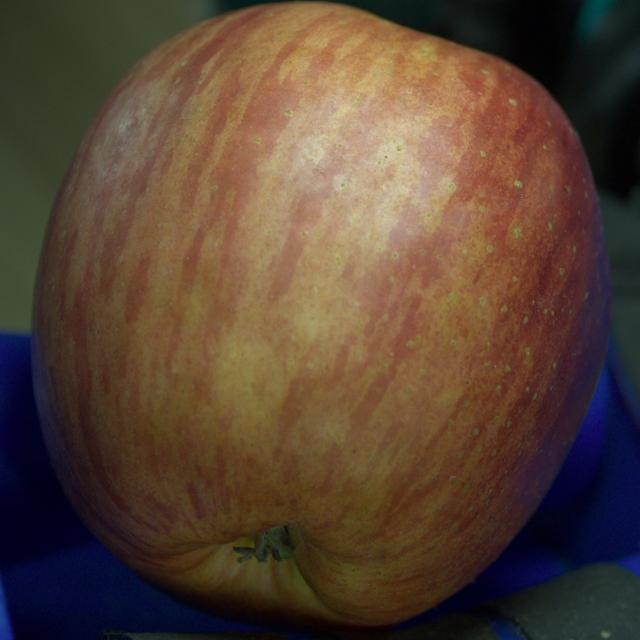apple: (32, 2, 609, 626)
